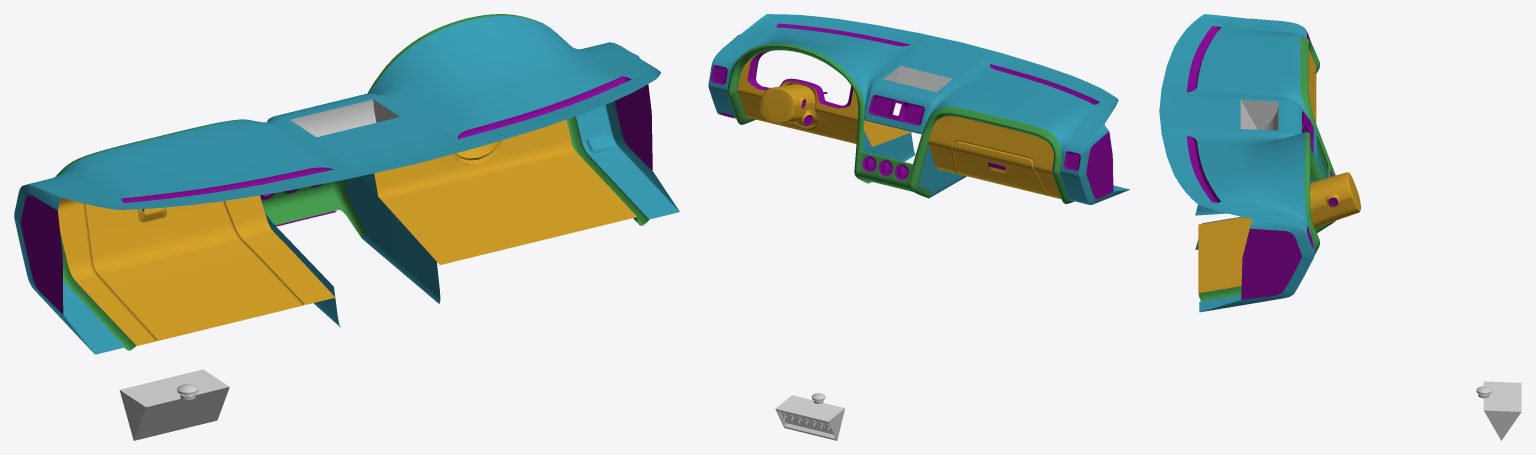
File: craptech_switchpanel.dae
The picture shows the model from 3 angles, left to right: view 1: azimuth 30°, elevation 25°; view 2: azimuth 150°, elevation 25°; view 3: azimuth 270°, elevation 25°; orthographic projection. The views are drawn at different scales.
Parts seen in each view (by area): view 1: craptech_dash_switchpanel, craptech_swpanel_top, craptech_swpanel_well; view 2: craptech_dash_switchpanel, craptech_swpanel_body, craptech_swpanel_well, craptech_swpanel_top; view 3: craptech_dash_switchpanel, craptech_swpanel_well, craptech_swpanel_top, craptech_swpanel_body.
Part boxes in pixels (bbox=[...]): craptech_dash_switchpanel: bbox=[14, 14, 679, 354]; craptech_swpanel_top: bbox=[120, 369, 229, 440]; craptech_swpanel_well: bbox=[290, 99, 399, 137]; craptech_dash_switchpanel: bbox=[708, 14, 1129, 204]; craptech_swpanel_body: bbox=[775, 408, 844, 440]; craptech_swpanel_well: bbox=[883, 66, 952, 92]; craptech_swpanel_top: bbox=[775, 395, 844, 421]; craptech_dash_switchpanel: bbox=[1159, 14, 1360, 312]; craptech_swpanel_well: bbox=[1240, 100, 1278, 130]; craptech_swpanel_top: bbox=[1483, 381, 1521, 411]; craptech_swpanel_body: bbox=[1484, 410, 1521, 440].
Bounding box in the file's own units: 1.41 × 1.05 × 1.08.
